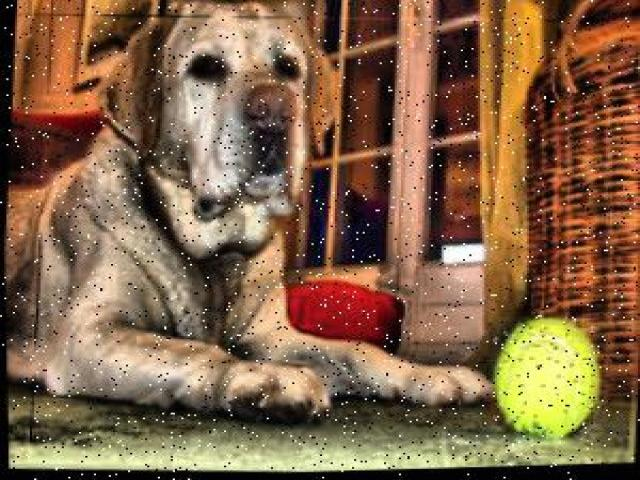tennis-ball: (494, 316, 604, 438)
